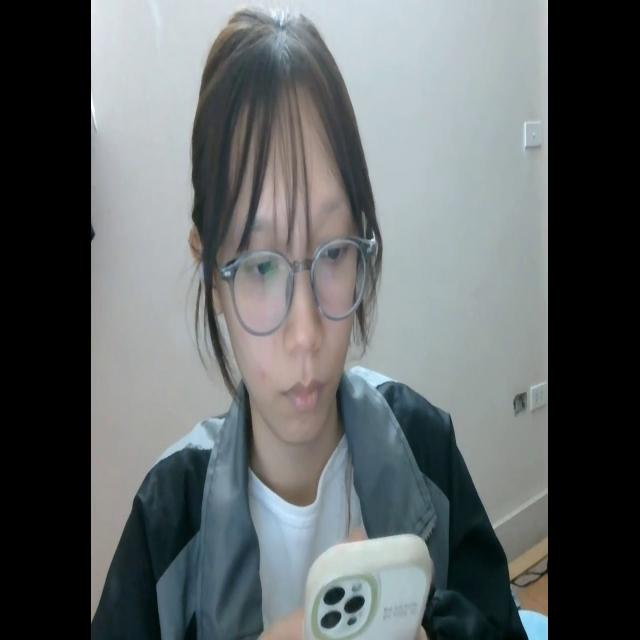phone: (301, 529, 432, 639)
student: (111, 8, 529, 640)
